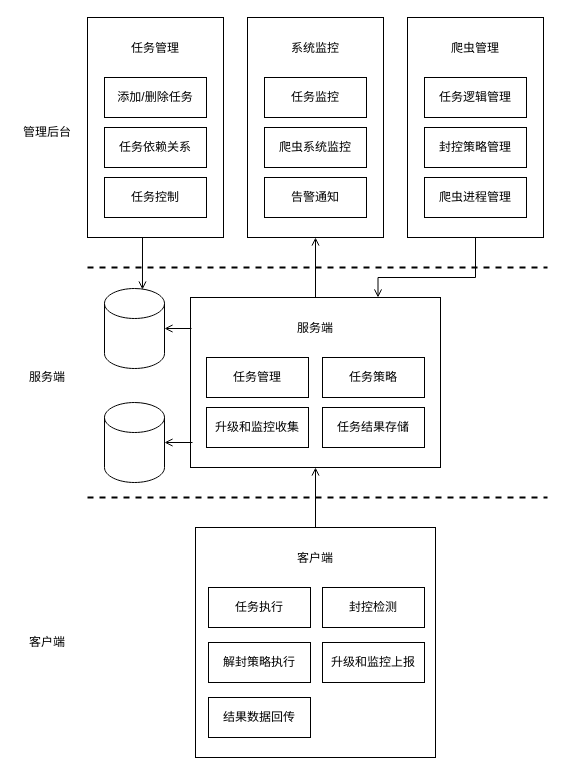
The diagram is 566 pixels wide and 775 high, and some of its shapes have lost their labels. The box of each missing label's shape, as (x1, y1, x2, y2) in pixels:
任务结果: (104, 402, 164, 482)
任务表: (104, 288, 164, 368)
